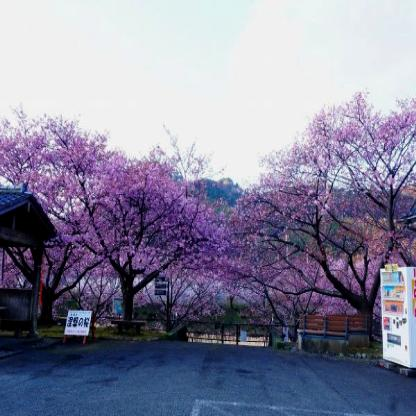KawazuSakura: (218, 165, 382, 320), (82, 132, 198, 323), (294, 93, 416, 262), (0, 91, 90, 299), (379, 263, 415, 373), (80, 279, 114, 323)
